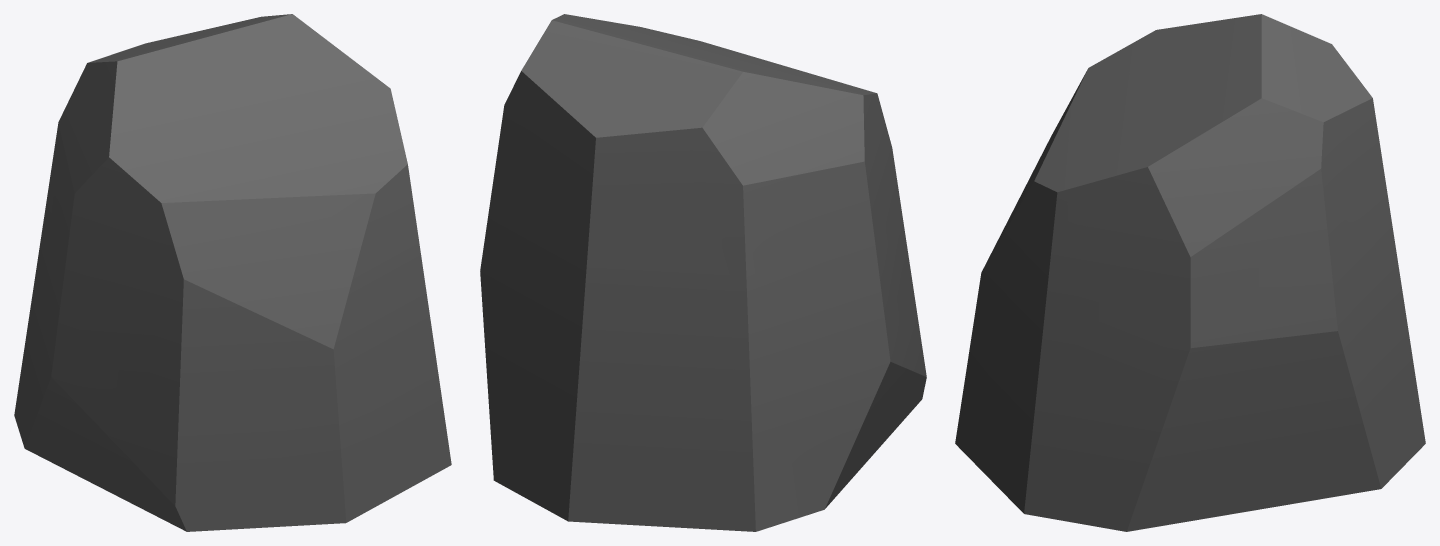
File: SmallRock_04.fbx
3 renders of one model, left to right at view 1: azimuth 30°, elevation 25°; view 2: azimuth 150°, elevation 25°; view 3: azimuth 270°, elevation 25°, orthographic. The views are drawn at different scales.
Parts seen in each view (by area): view 1: small_rock_03; view 2: small_rock_03; view 3: small_rock_03.
Boxes of the visible parts, left/top/right/bottom form: small_rock_03: left=14, top=14, right=451, bottom=531; small_rock_03: left=480, top=14, right=926, bottom=531; small_rock_03: left=955, top=14, right=1425, bottom=531.
Size of the model in its own units: 84.74 by 86.06 by 93.4.
Materials: 1 (1 with a texture image).
